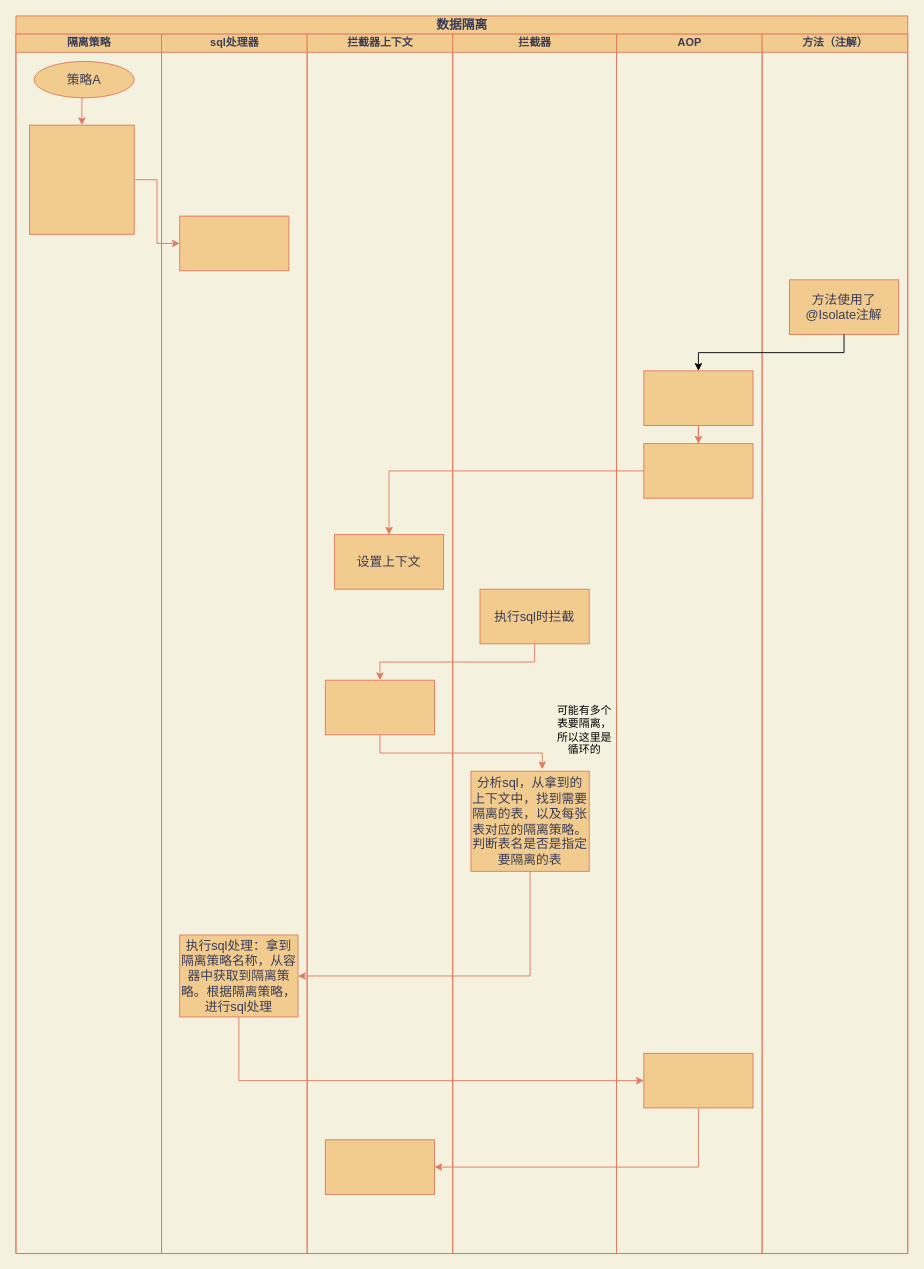
Some shapes in this 924 by 1269 pixel diagram are drawn without their labels. Each missing label, with the centre of its shape:
使用注解@PostContruct，在bean实例创建后，初始化之前，将自己注册到处理器: (x=81, y=179)
执行自己的方法: (x=698, y=1080)
方法执行前，设置上下文: (x=698, y=470)
注册，实际上就是装进它的策略容器里: (x=234, y=243)
清空上下文（计数器-1）: (x=379, y=1166)
环绕通知: (x=698, y=397)
获取上下文: (x=379, y=707)
